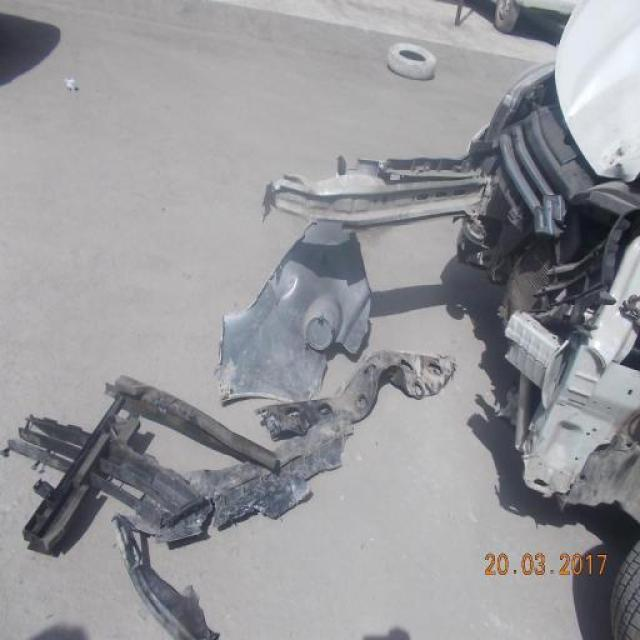crush: (458, 32, 630, 519)
